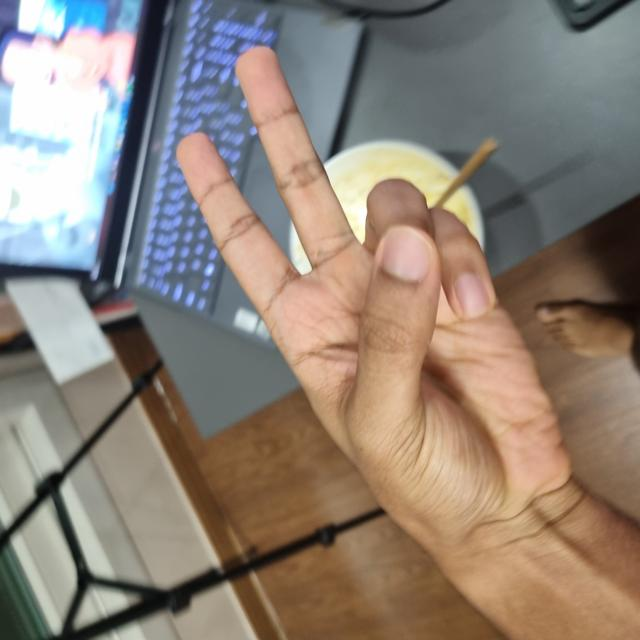Scissors: (111, 178, 595, 570)
